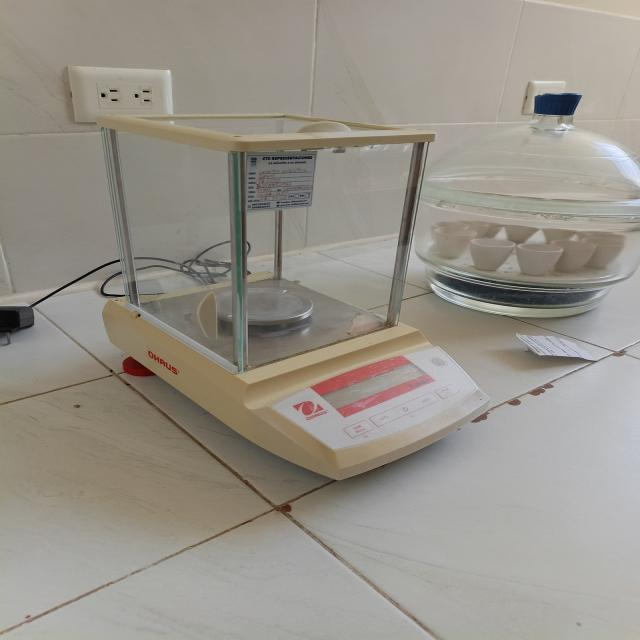Balanza Analitica de la Serie Ohaus Pioneer: (99, 114, 488, 479)
